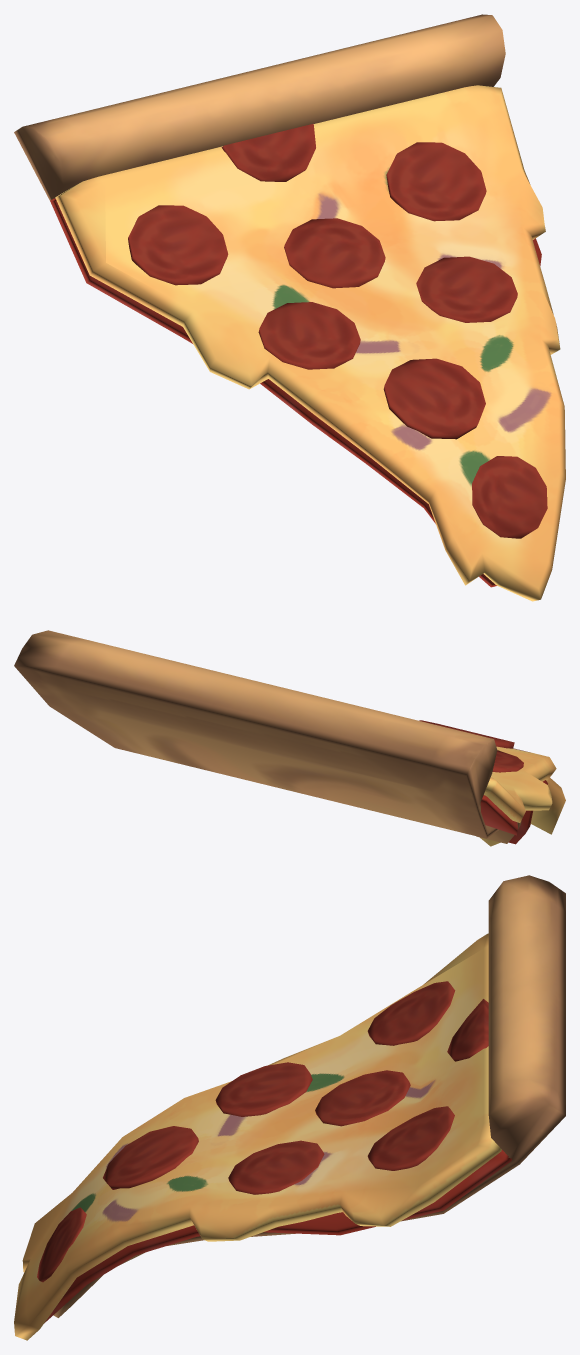
The model's file is pizza_001.fbx.
3 renders of one model, top to bottom at view 1: azimuth 30°, elevation 25°; view 2: azimuth 150°, elevation 25°; view 3: azimuth 270°, elevation 25°, orthographic.
Parts seen in each view (by area): view 1: pizza_001; view 2: pizza_001; view 3: pizza_001.
Part boxes in pixels (x1,y1,x2,y2): pizza_001: (14, 14, 565, 601); pizza_001: (14, 630, 565, 846); pizza_001: (14, 875, 565, 1340).
Bounding box in the file's own units: 2.35 × 1.7 × 2.46.
1 material, 1 textured.
